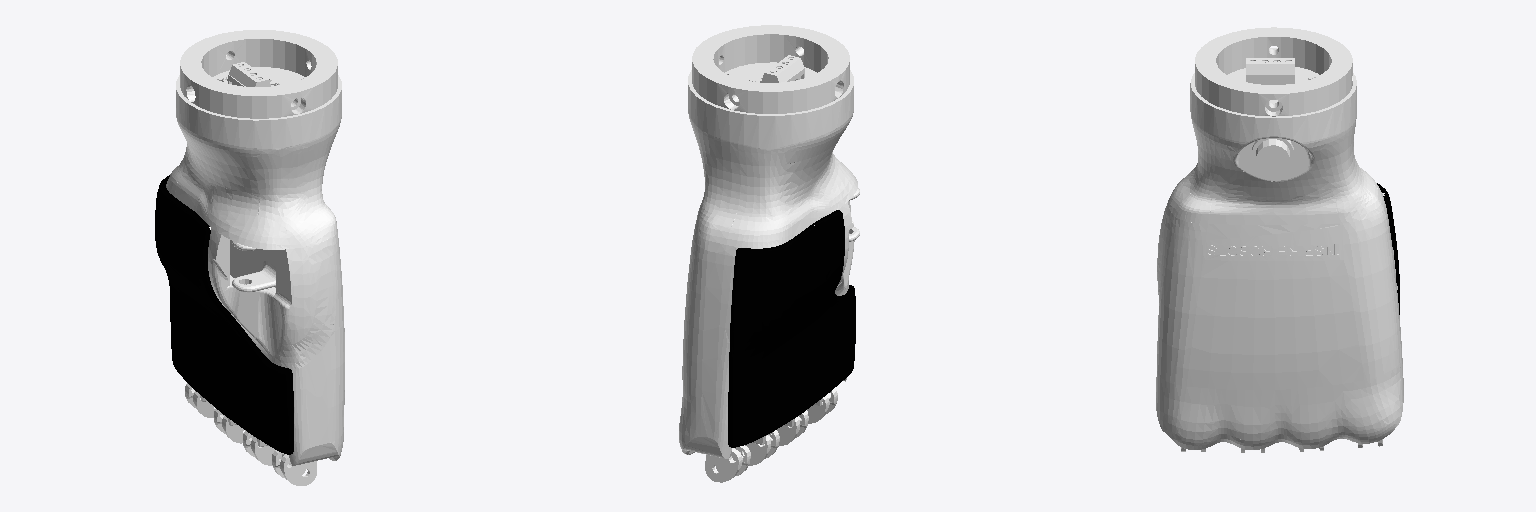
The model's file is L_hand_base_link.obj.
3 renders of one model, left to right at view 1: azimuth 30°, elevation 25°; view 2: azimuth 150°, elevation 25°; view 3: azimuth 270°, elevation 25°, orthographic.
Visible parts, largest first — view 1: L_hand_base_link; view 2: L_hand_base_link; view 3: L_hand_base_link.
Boxes of the visible parts, <box> form: L_hand_base_link: <box>155,30,344,485</box>; L_hand_base_link: <box>679,25,859,482</box>; L_hand_base_link: <box>1156,27,1403,452</box>.
Size of the model in its own units: 0.0548 by 0.1416 by 0.0815.